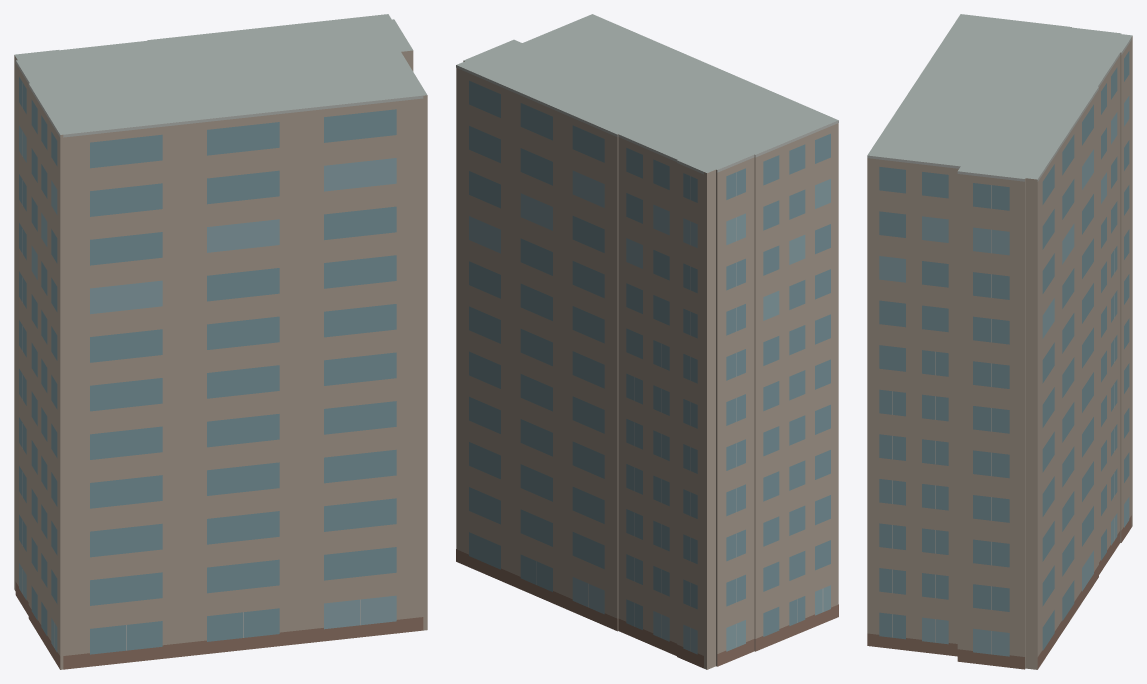
The model's file is survey-upis-32797242.glb.
3 renders of one model, left to right at view 1: azimuth 30°, elevation 25°; view 2: azimuth 150°, elevation 25°; view 3: azimuth 270°, elevation 25°, orthographic. The views are drawn at different scales.
Visible parts, largest first — view 1: survey-upis-32797242.tmp; view 2: survey-upis-32797242.tmp; view 3: survey-upis-32797242.tmp.
Part boxes in pixels (left/top/right/bottom): survey-upis-32797242.tmp: left=14, top=14, right=427, bottom=669; survey-upis-32797242.tmp: left=456, top=14, right=838, bottom=669; survey-upis-32797242.tmp: left=867, top=14, right=1132, bottom=669.
Size of the model in its own units: 33.17 by 45.8 by 22.48.
